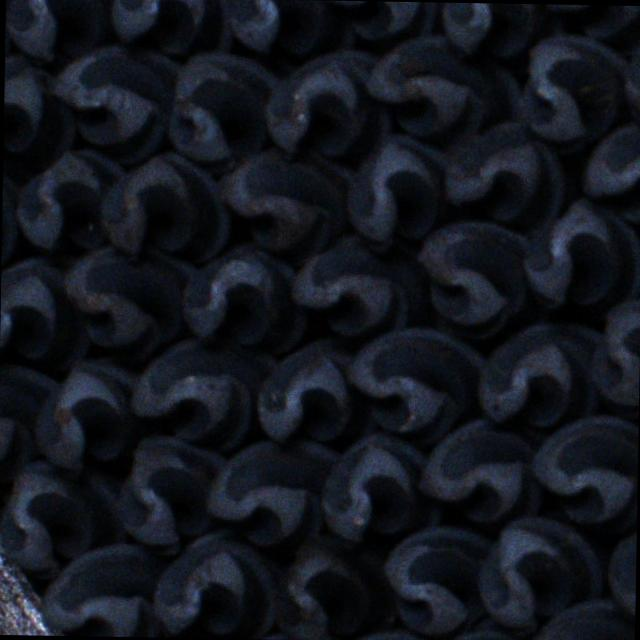tool_b: (129, 336, 280, 446), (364, 34, 520, 140), (346, 325, 488, 440), (53, 43, 186, 161), (214, 150, 356, 258), (62, 244, 198, 356), (0, 459, 128, 577), (478, 517, 606, 635), (205, 439, 342, 549), (288, 234, 428, 338), (97, 153, 231, 260), (266, 48, 396, 158), (518, 195, 640, 312), (150, 532, 280, 639), (163, 51, 280, 168), (416, 220, 532, 338), (320, 432, 444, 542), (476, 320, 601, 427), (178, 244, 306, 348), (420, 420, 544, 526), (440, 120, 566, 224), (115, 436, 228, 551), (516, 34, 628, 150), (252, 336, 374, 442), (273, 536, 397, 640), (530, 412, 638, 528), (380, 524, 490, 636), (41, 540, 167, 636), (12, 150, 126, 256), (345, 136, 447, 252), (32, 359, 138, 468), (0, 254, 87, 367), (2, 56, 74, 168), (219, 0, 354, 55), (0, 365, 58, 483), (434, 2, 556, 58), (6, 0, 116, 62), (106, 0, 233, 53), (579, 120, 640, 223), (591, 296, 640, 421), (314, 0, 436, 42), (536, 3, 640, 49), (525, 599, 635, 640), (607, 509, 636, 624), (1, 149, 22, 286), (620, 16, 640, 137)
